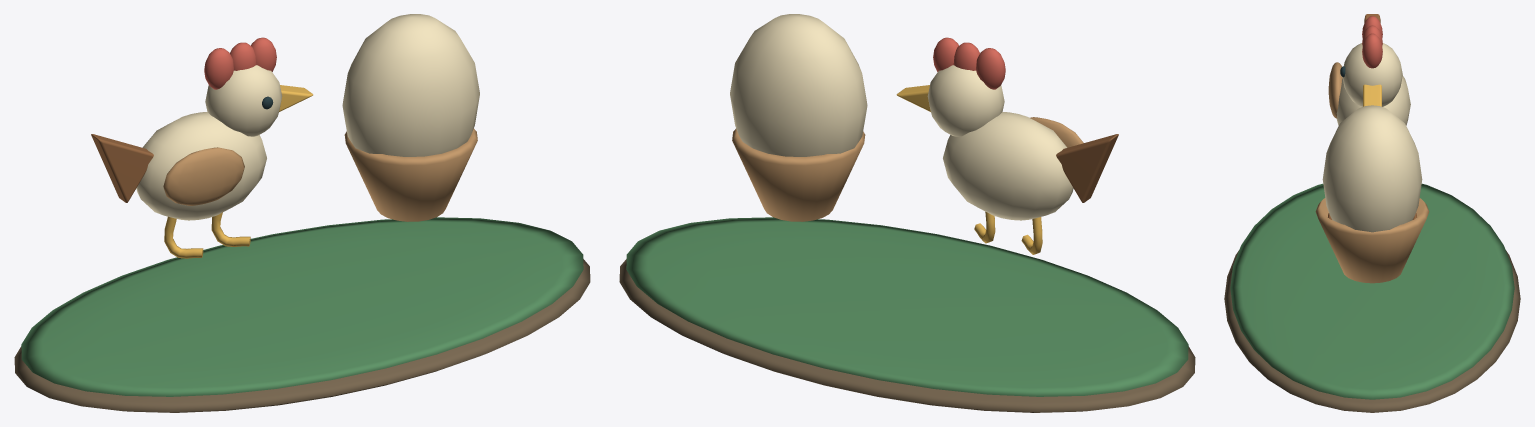
File: chicken-egg.glb
3 views of the same model, side by side, from view 1: azimuth 30°, elevation 25°; view 2: azimuth 150°, elevation 25°; view 3: azimuth 270°, elevation 25° (orthographic). The views are drawn at different scales.
Visible parts, largest first — view 1: chicken-egg_surface_01, chicken-egg_surface_02, chicken-egg_surface_00, chicken-egg_surface_05, chicken-egg_surface_07, chicken-egg_surface_06, chicken-egg_surface_03; view 2: chicken-egg_surface_01, chicken-egg_surface_02, chicken-egg_surface_00, chicken-egg_surface_05, chicken-egg_surface_07, chicken-egg_surface_06, chicken-egg_surface_03; view 3: chicken-egg_surface_01, chicken-egg_surface_02, chicken-egg_surface_00, chicken-egg_surface_05, chicken-egg_surface_06, chicken-egg_surface_03.
Part boxes in pixels (x1,y1,x2,y2): chicken-egg_surface_01: [21, 217, 583, 396]; chicken-egg_surface_02: [136, 14, 479, 220]; chicken-egg_surface_00: [14, 259, 590, 412]; chicken-egg_surface_05: [163, 128, 477, 221]; chicken-egg_surface_07: [91, 134, 153, 202]; chicken-egg_surface_06: [204, 37, 276, 89]; chicken-egg_surface_03: [164, 85, 313, 258]; chicken-egg_surface_01: [626, 217, 1188, 396]; chicken-egg_surface_02: [730, 14, 1073, 220]; chicken-egg_surface_00: [619, 259, 1195, 412]; chicken-egg_surface_05: [732, 117, 1083, 221]; chicken-egg_surface_07: [1056, 134, 1118, 202]; chicken-egg_surface_06: [933, 37, 1005, 89]; chicken-egg_surface_03: [896, 85, 1042, 254]; chicken-egg_surface_01: [1230, 183, 1514, 399]; chicken-egg_surface_02: [1322, 43, 1422, 232]; chicken-egg_surface_00: [1224, 250, 1520, 412]; chicken-egg_surface_05: [1315, 62, 1429, 283]; chicken-egg_surface_06: [1362, 16, 1382, 68]; chicken-egg_surface_03: [1363, 84, 1381, 106].
Bounding box in the file's own units: 4.56 × 2.43 × 2.5.
